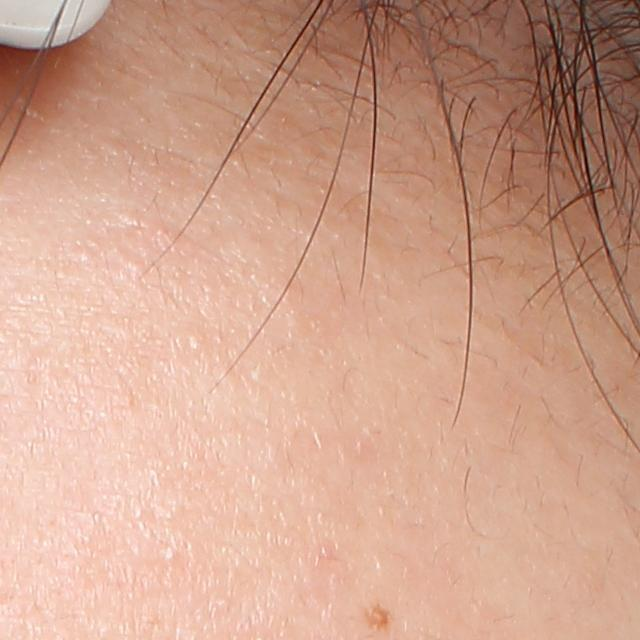comedo: (187, 332, 206, 353)
